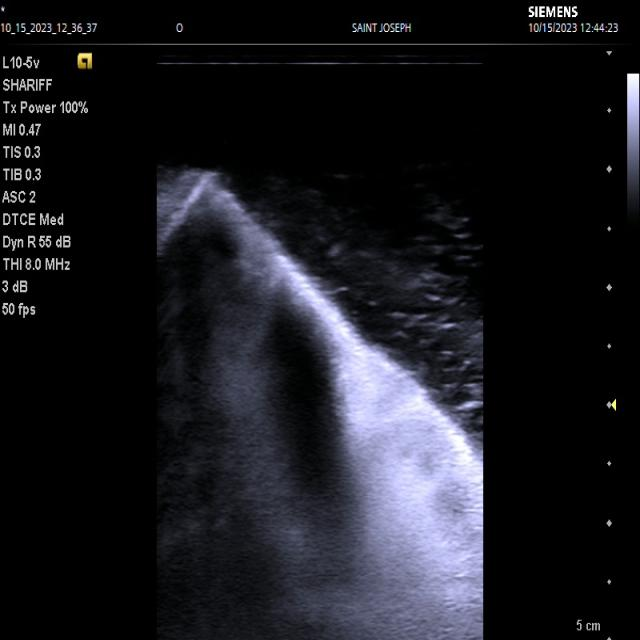tissue: (158, 177, 483, 640)
